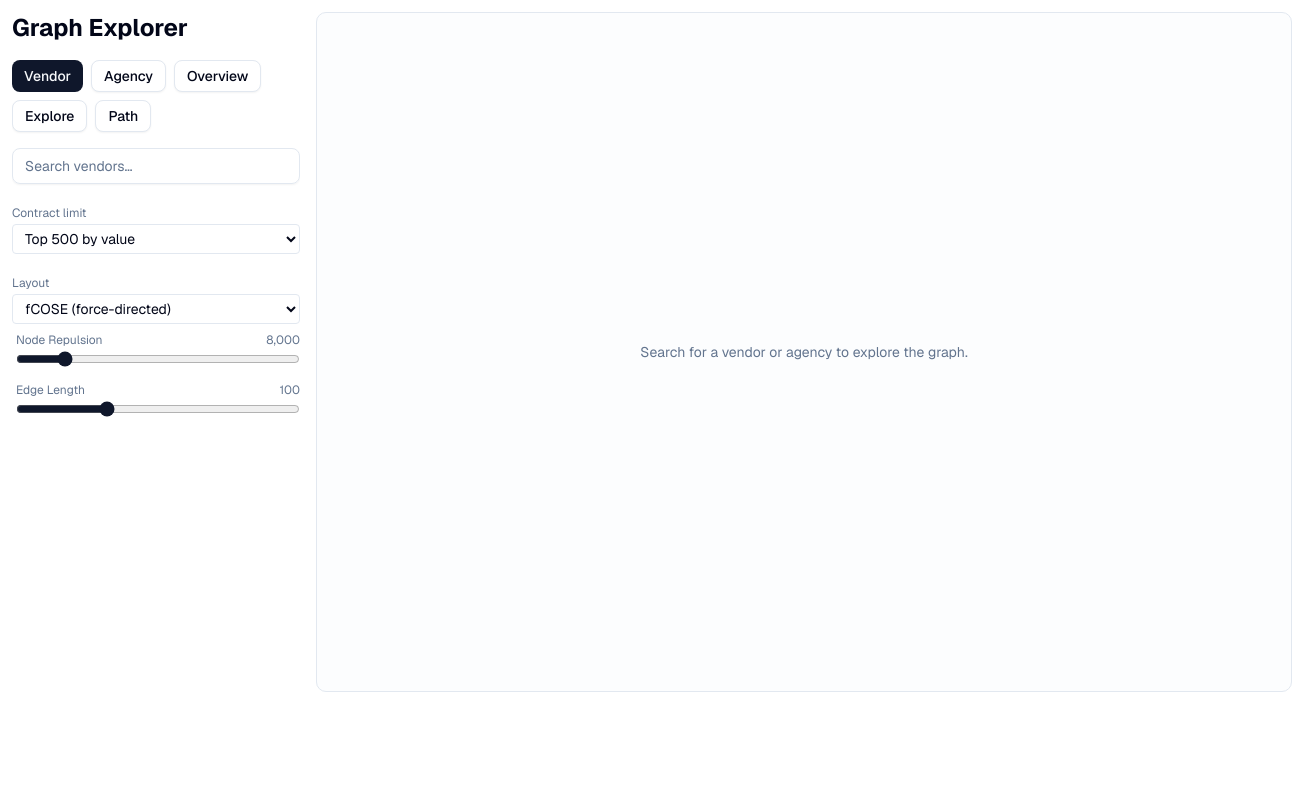
Test: GraphPage › shows Load market overview button in Overview mode
Click the button "Overview": (218, 76) [174,60,261,92]
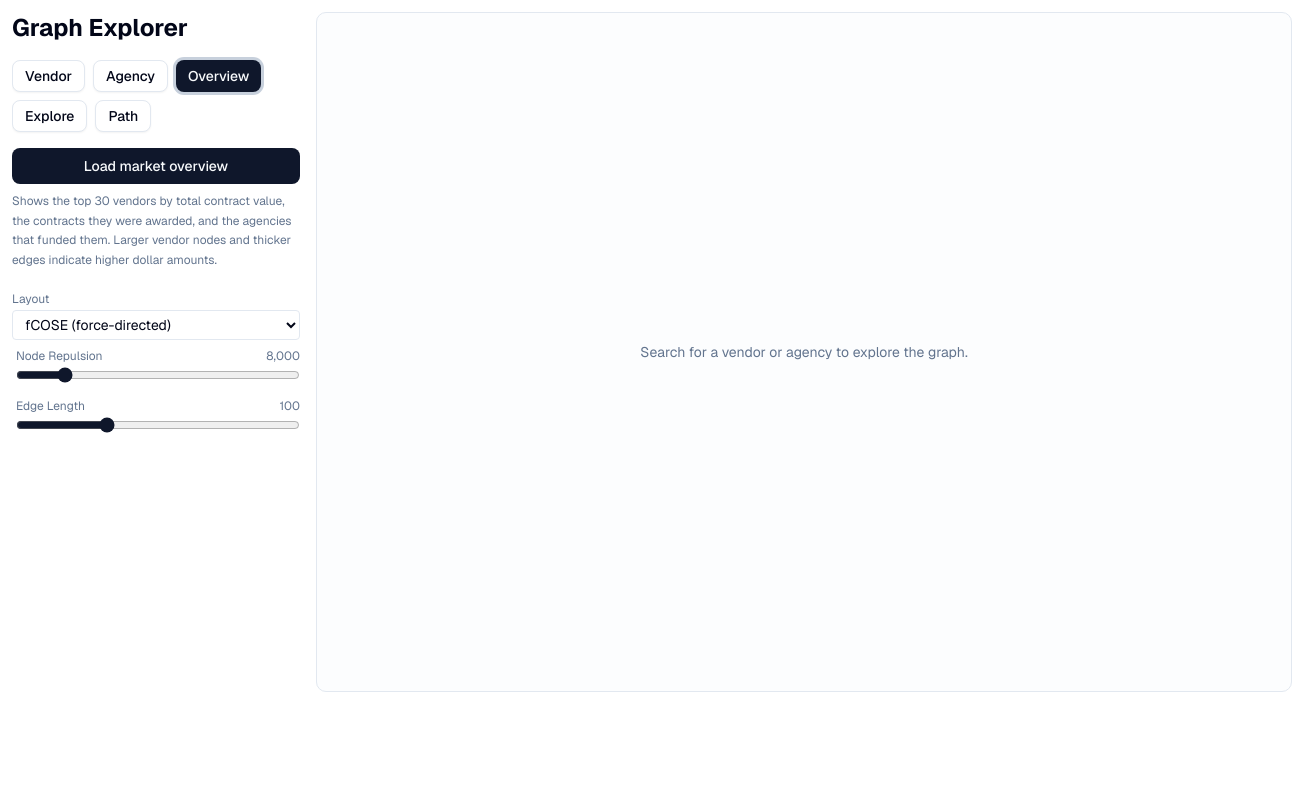
Expected: the button "Load market overview" is shown, [12,148,300,184]
